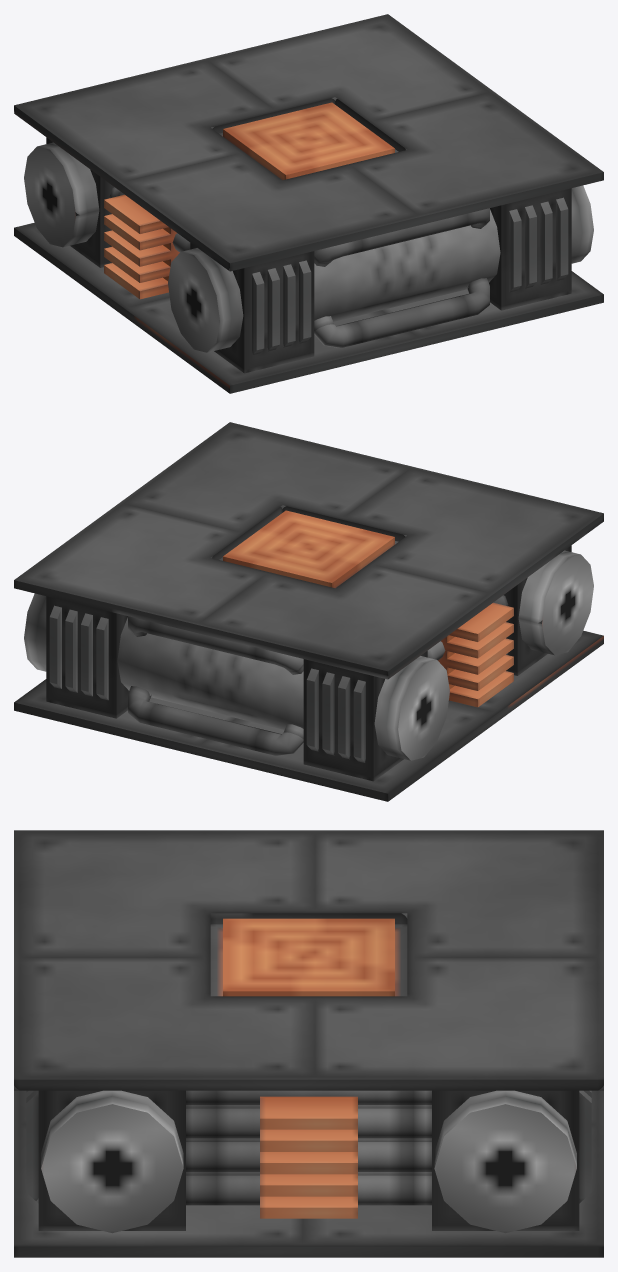
File: heat_exchanging_heater.obj
3 renders of one model, top to bottom at view 1: azimuth 30°, elevation 25°; view 2: azimuth 150°, elevation 25°; view 3: azimuth 270°, elevation 25°, orthographic. The views are drawn at different scales.
Visible parts, largest first — view 1: Cube_Cube.001; view 2: Cube_Cube.001; view 3: Cube_Cube.001.
Part boxes in pixels (bbox=[...]): Cube_Cube.001: bbox=[14, 14, 603, 393]; Cube_Cube.001: bbox=[14, 422, 603, 801]; Cube_Cube.001: bbox=[14, 830, 603, 1257].
Size of the model in its own units: 3 by 1 by 3.
